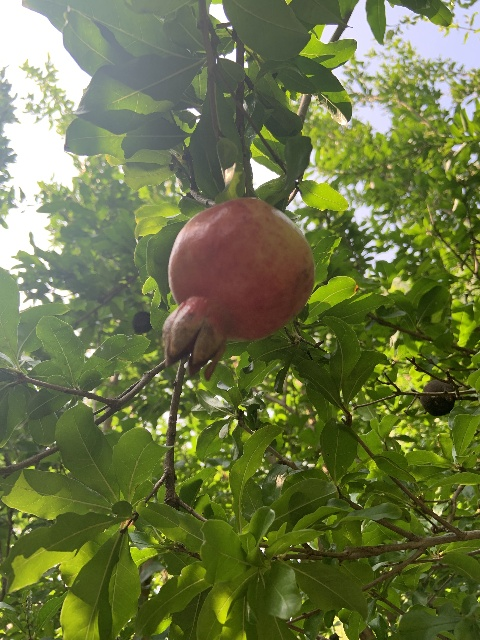ripe: (163, 197, 314, 374)
